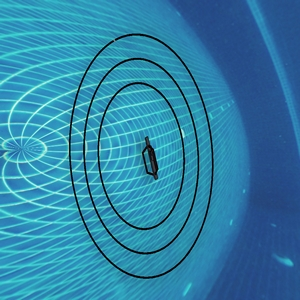circle: (35, 23, 261, 277)
submarine: (144, 143, 161, 180)
